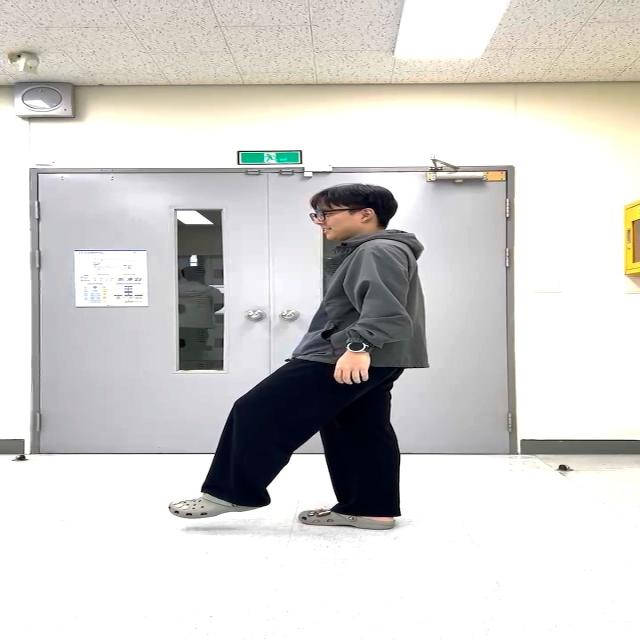leg: (187, 359, 319, 528)
